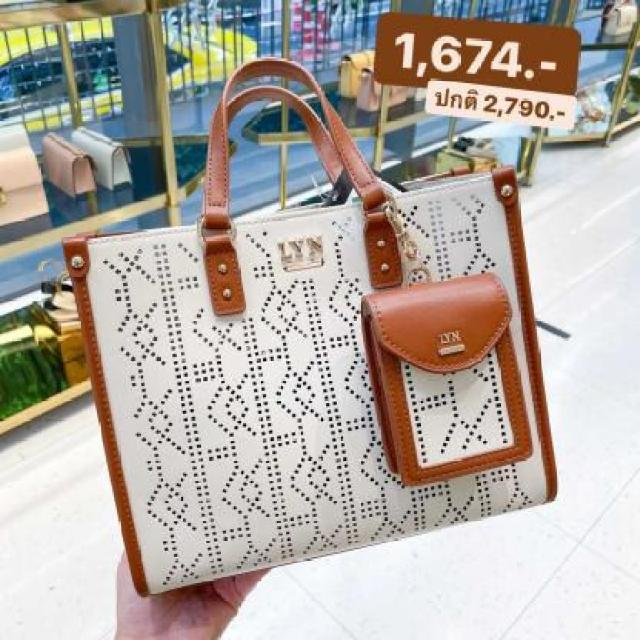Bag: (39, 25, 616, 606)
